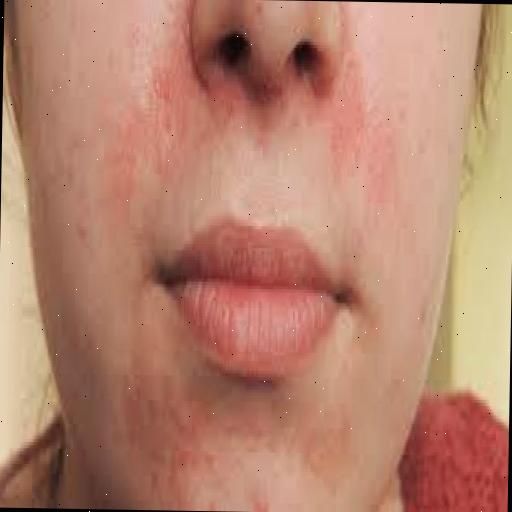Skin_Lesion: (328, 92, 365, 158), (178, 400, 216, 464), (152, 54, 186, 112)
